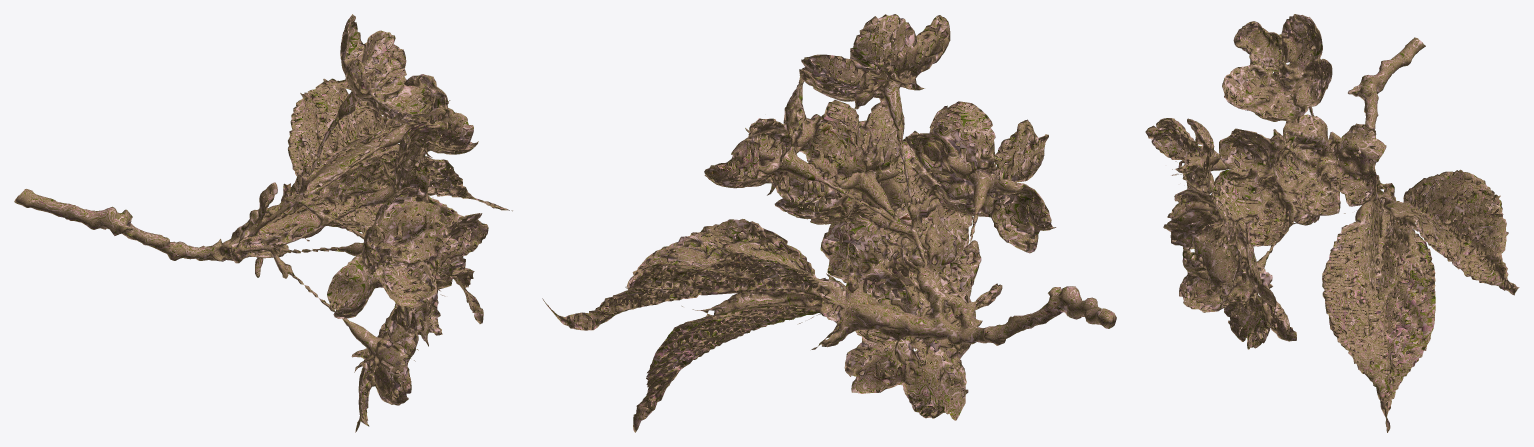
Rendered from kawazu_sakura_clean.glb.
3 views of the same model, side by side, from view 1: azimuth 30°, elevation 25°; view 2: azimuth 150°, elevation 25°; view 3: azimuth 270°, elevation 25° (orthographic). The views are drawn at different scales.
Parts seen in each view (by area): view 1: KawazuSakura; view 2: KawazuSakura; view 3: KawazuSakura.
Boxes of the visible parts, x1,y1,x2,y2 form: KawazuSakura: [14, 14, 512, 432]; KawazuSakura: [542, 14, 1116, 432]; KawazuSakura: [1145, 14, 1519, 432].
Bounding box in the file's own units: 4.19 × 3.28 × 3.25.
Materials: 1 (1 with a texture image).
